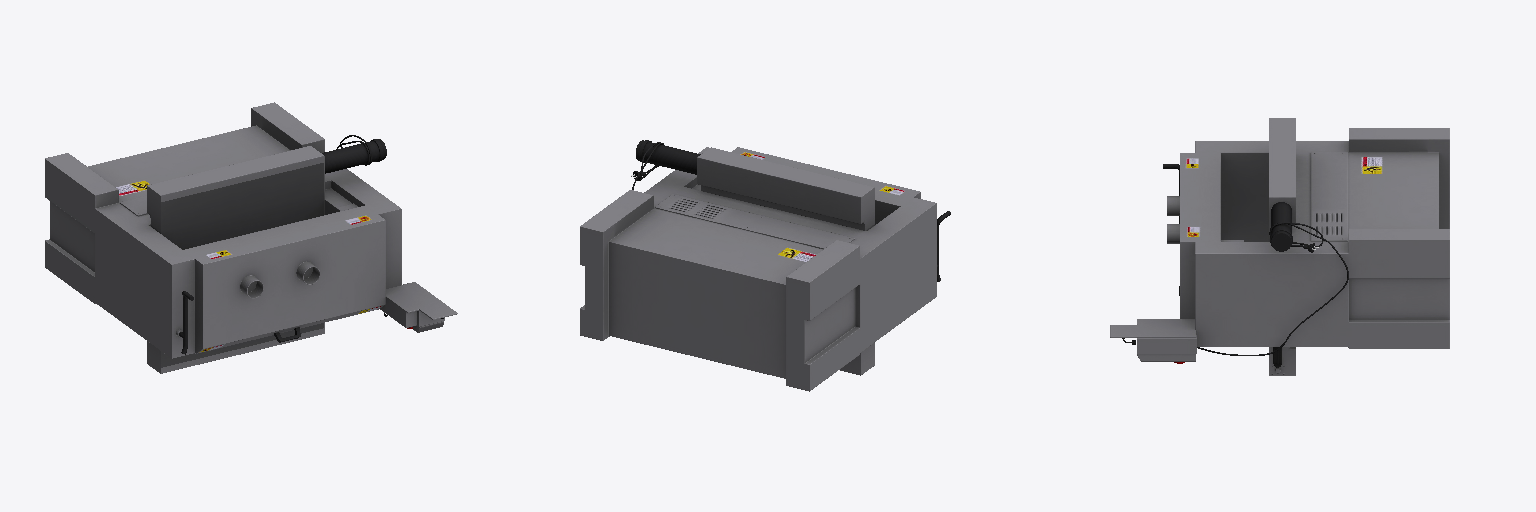
3 views of the same model, side by side, from view 1: azimuth 30°, elevation 25°; view 2: azimuth 150°, elevation 25°; view 3: azimuth 270°, elevation 25° (orthographic).
Visible parts, largest first — view 1: 13610_Drum_Sander_v03; view 2: 13610_Drum_Sander_v03; view 3: 13610_Drum_Sander_v03.
Boxes of the visible parts, <box> form: 13610_Drum_Sander_v03: <box>45,102,457,373</box>; 13610_Drum_Sander_v03: <box>580,140,950,391</box>; 13610_Drum_Sander_v03: <box>1110,118,1449,375</box>.
Size of the model in its own units: 59.62 by 40.17 by 69.24.
1 materials, 1 textured.